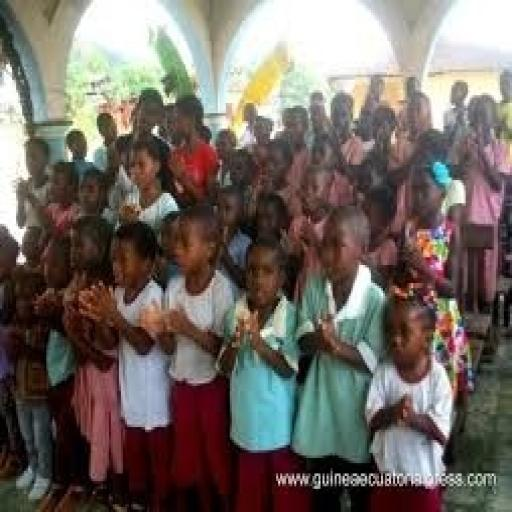clapping: (0, 72, 510, 509)
